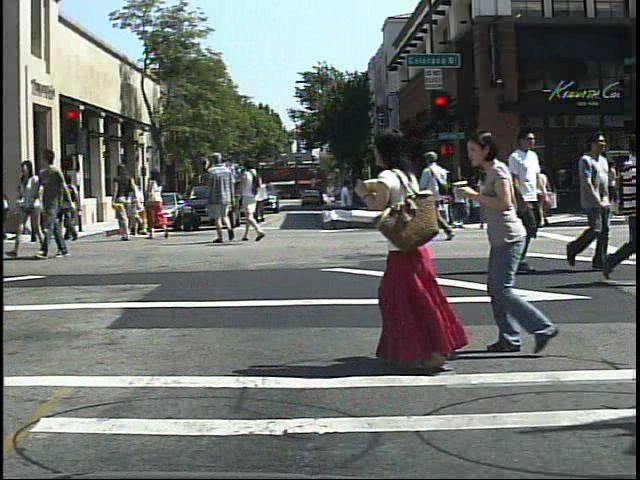person: (460, 120, 573, 364), (360, 123, 465, 378), (484, 127, 552, 278), (569, 127, 632, 281), (599, 127, 639, 284), (35, 144, 76, 261), (419, 144, 463, 247), (9, 159, 49, 262), (202, 150, 241, 246), (239, 156, 268, 245), (26, 168, 53, 246), (112, 164, 139, 242), (143, 166, 169, 241), (58, 170, 83, 247), (477, 166, 503, 234), (431, 162, 455, 231)
